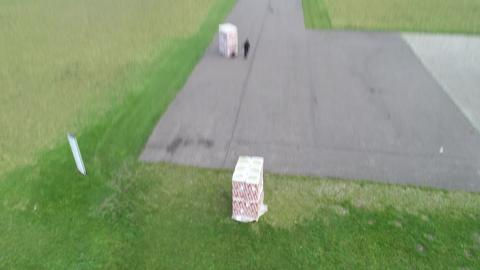RockwoolPallet: (217, 25, 238, 57)
